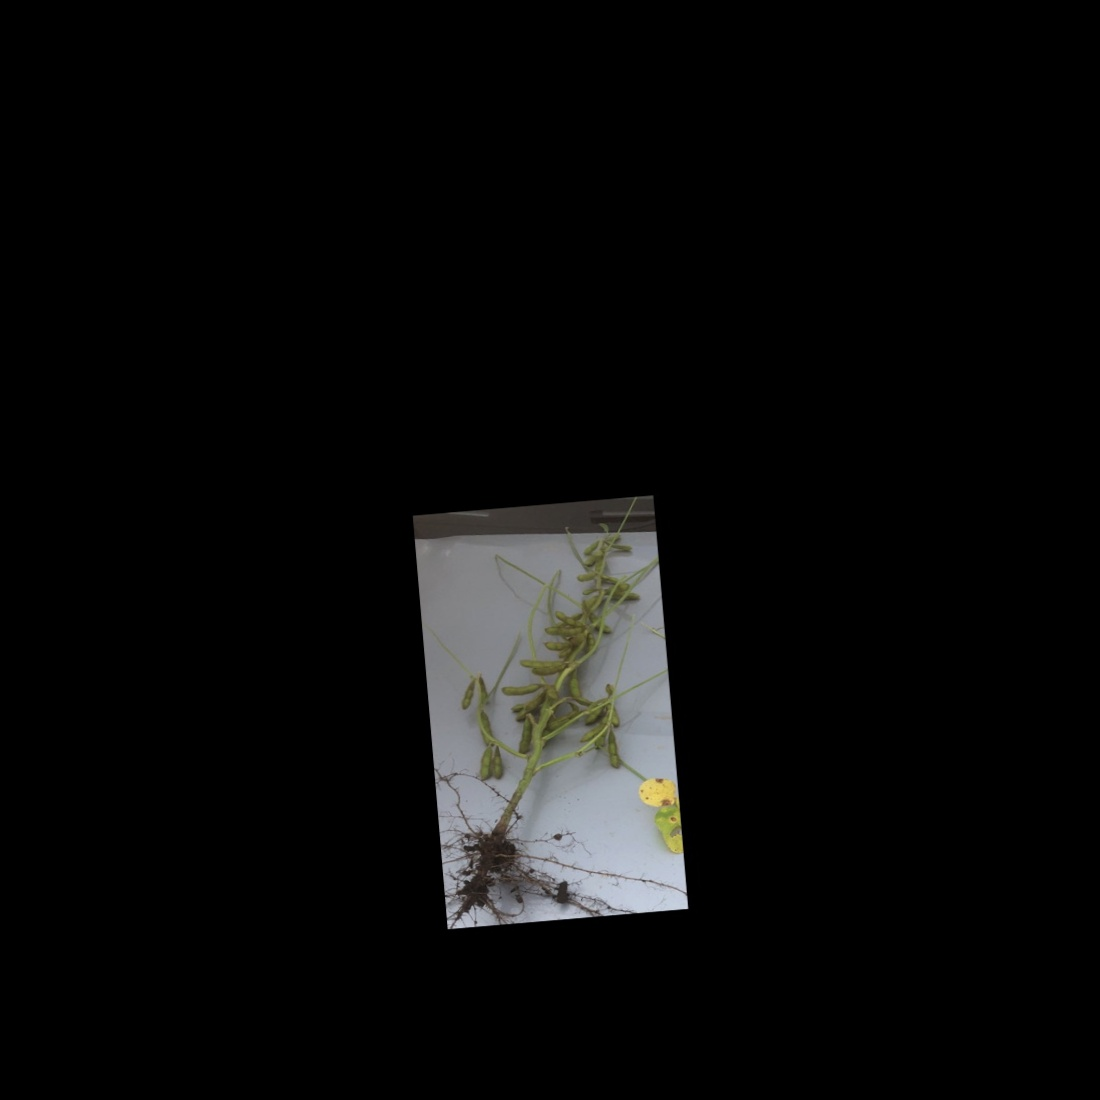pod: (499, 679, 543, 699), (512, 717, 535, 755), (453, 679, 477, 715), (473, 743, 495, 782), (604, 730, 623, 770), (490, 743, 506, 781), (569, 665, 584, 698), (574, 568, 599, 584), (579, 538, 599, 556), (542, 639, 572, 651), (580, 584, 602, 595)
soy: (435, 515, 671, 908)
